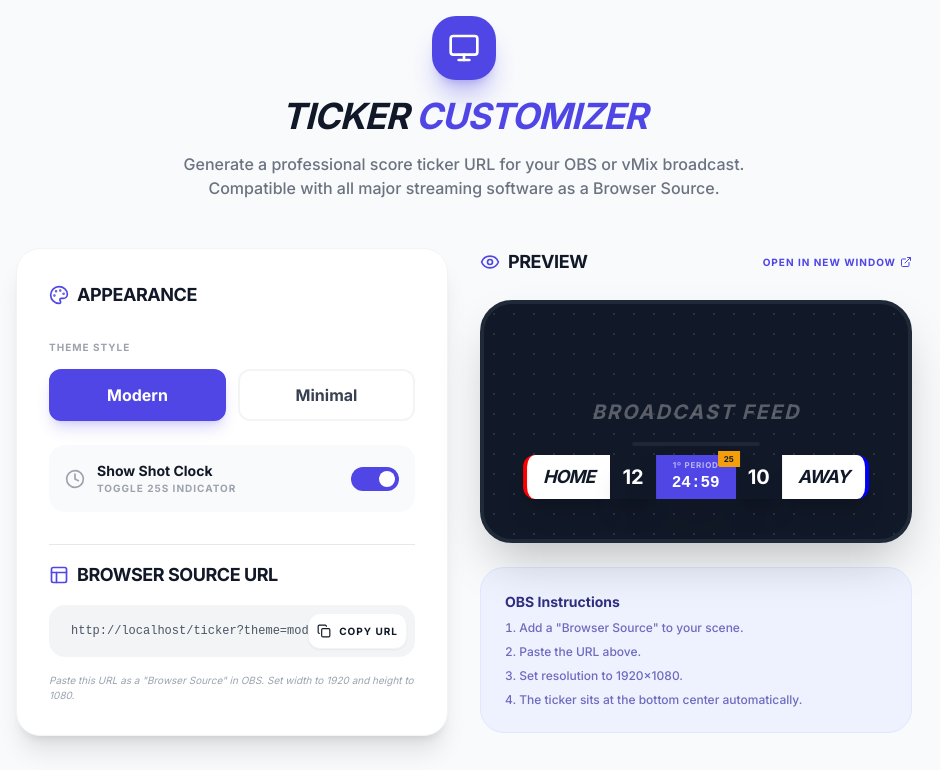
Test: TickerCustomizer › should generate the correct URL based on theme selection
// Simulate clicking Minimal theme
Click the button "minimal" at (326, 395), box x1=238 y1=369 x2=415 y2=421
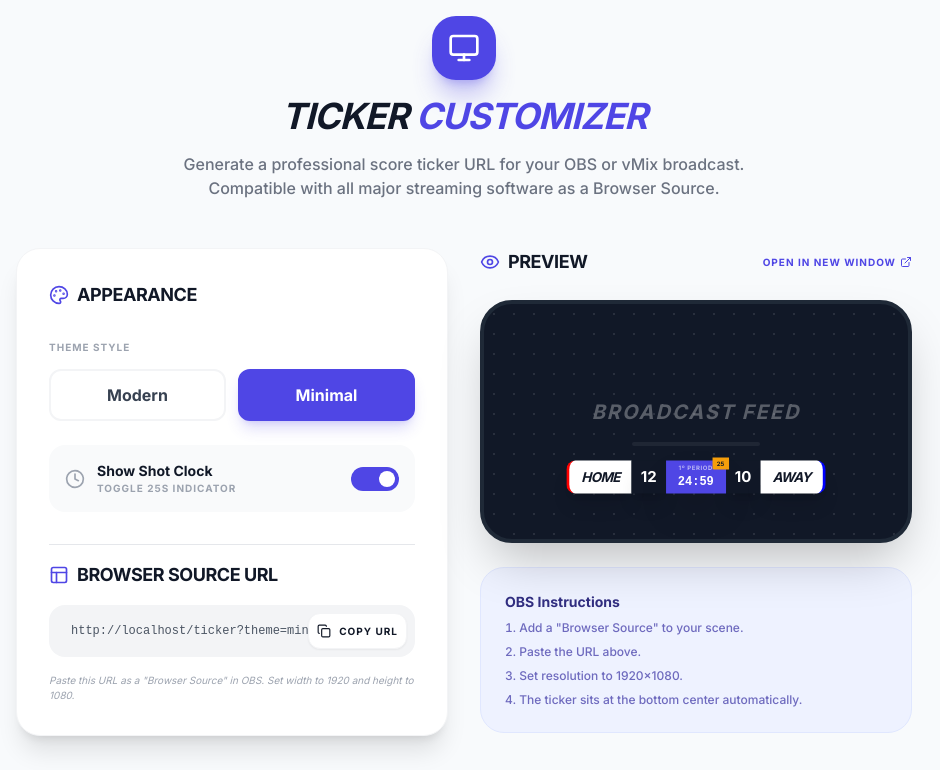
Now the field showing "matchId=test-match-123" is shown, box x1=49 y1=605 x2=415 y2=657
